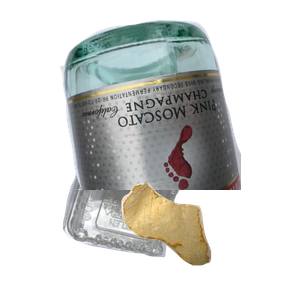glass: (60, 17, 300, 197)
paper: (56, 40, 229, 166)
plastic: (60, 136, 237, 300)
trash: (119, 181, 300, 300)
